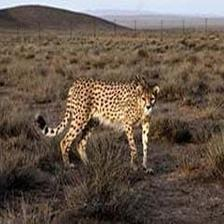Cheetah: (35, 75, 163, 169)
